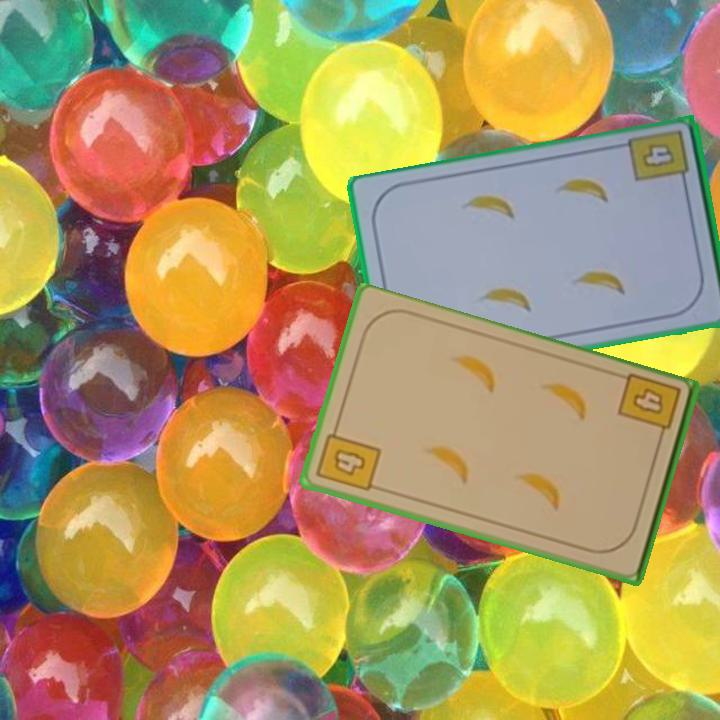4b: (614, 370, 684, 446), (313, 421, 384, 495), (625, 126, 693, 191)
